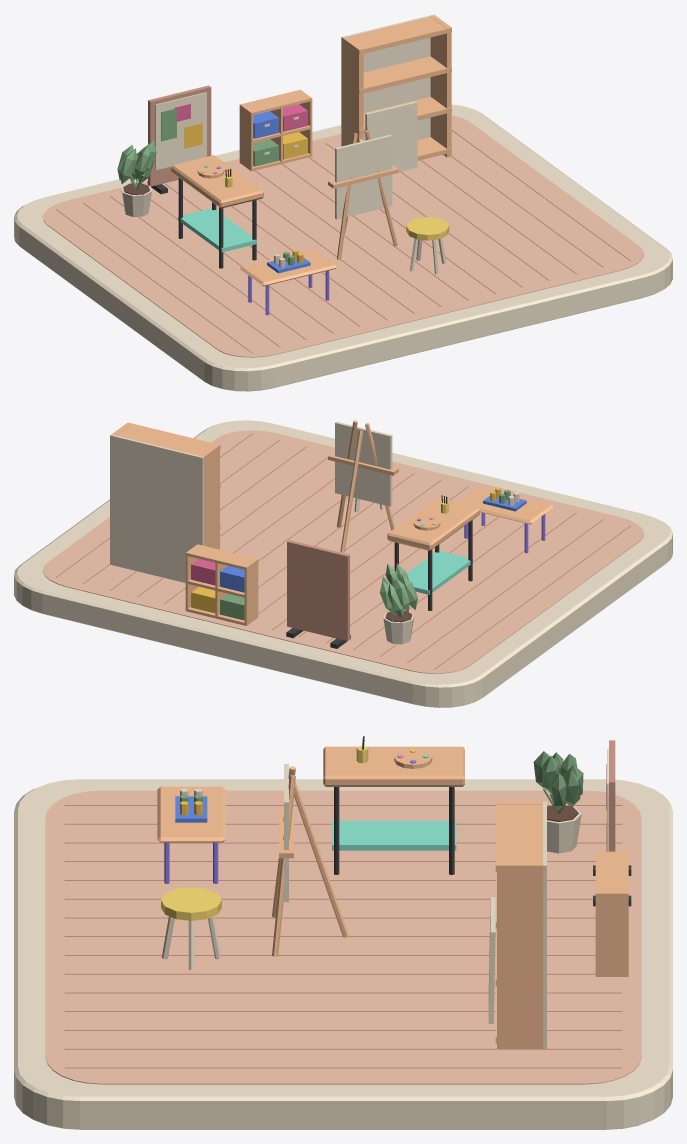
The picture shows the model from 3 angles, top to bottom: view 1: azimuth 30°, elevation 25°; view 2: azimuth 150°, elevation 25°; view 3: azimuth 270°, elevation 25°; orthographic projection. The views are drawn at different scales.
Parts seen in each view (by area): view 1: COM-02 Floor Surface, COM-01 Rounded Base Direct, Canvas, Back, Blank canvas, Canvas.001, Worktop, Pot, Side.003, Side.002, Shelf.003, Shelf.002 (+11 smaller); view 2: COM-02 Floor Surface, COM-01 Rounded Base Direct, Back, Panel, Canvas, Worktop, Pot, Side.002, Lower shelf, Shelf.003, Rounded table top, Cubbies shelf.002 (+6 smaller); view 3: COM-02 Floor Surface, COM-01 Rounded Base Direct, Side.003, Worktop, Lower shelf, Pot, Shelf.003, Rounded table top, Cubbies divider.002, Seat, Cubbies shelf.002, Plank seam.014 (+13 smaller).
Boxes of the visible parts, x1=… form: COM-02 Floor Surface: x1=42, y1=115, x2=644, y2=357; COM-01 Rounded Base Direct: x1=14, y1=104, x2=672, y2=391; Canvas: x1=335, y1=134, x2=392, y2=219; Back: x1=341, y1=14, x2=434, y2=146; Blank canvas: x1=365, y1=101, x2=417, y2=171; Canvas.001: x1=155, y1=92, x2=206, y2=170; Worktop: x1=171, y1=155, x2=263, y2=208; Pot: x1=117, y1=140, x2=156, y2=216; Side.003: x1=430, y1=15, x2=451, y2=157; Side.002: x1=342, y1=37, x2=363, y2=145; Shelf.003: x1=341, y1=17, x2=451, y2=54; Shelf.002: x1=341, y1=56, x2=451, y2=94; COM-02 Floor Surface: x1=42, y1=430, x2=644, y2=673; COM-01 Rounded Base Direct: x1=14, y1=420, x2=672, y2=707; Back: x1=110, y1=435, x2=203, y2=582; Panel: x1=287, y1=540, x2=349, y2=641; Canvas: x1=335, y1=421, x2=392, y2=506; Worktop: x1=387, y1=497, x2=479, y2=550; Pot: x1=379, y1=563, x2=417, y2=644; Side.002: x1=199, y1=444, x2=219, y2=549; Lower shelf: x1=406, y1=551, x2=472, y2=594; Shelf.003: x1=116, y1=422, x2=220, y2=461; Rounded table top: x1=459, y1=487, x2=553, y2=524; Cubbies shelf.002: x1=186, y1=544, x2=257, y2=569; COM-02 Floor Surface: x1=45, y1=790, x2=641, y2=1084; COM-01 Rounded Base Direct: x1=14, y1=779, x2=672, y2=1129; Side.003: x1=497, y1=862, x2=544, y2=1048; Worktop: x1=323, y1=746, x2=464, y2=786; Lower shelf: x1=332, y1=820, x2=456, y2=850; Pot: x1=533, y1=751, x2=583, y2=853; Shelf.003: x1=495, y1=801, x2=545, y2=872; Rounded table top: x1=157, y1=786, x2=225, y2=842; Cubbies divider.002: x1=595, y1=894, x2=628, y2=976; Seat: x1=161, y1=887, x2=221, y2=920; Cubbies shelf.002: x1=595, y1=851, x2=628, y2=893; Plank seam.014: x1=64, y1=1067, x2=622, y2=1068.
Bounding box in the file's own units: 6 × 1.9 × 5.2.
1 material, 1 textured.
